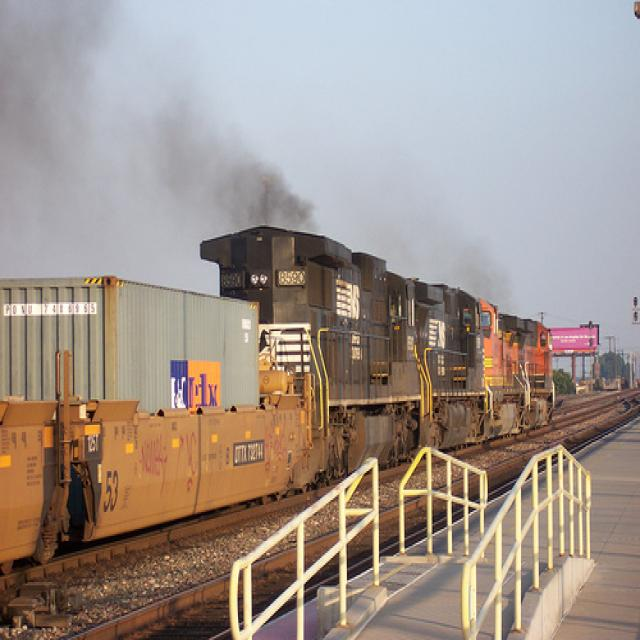container: (0, 270, 262, 410)
flatcar: (0, 395, 314, 554)
locomotive: (197, 220, 425, 460), (416, 275, 489, 456), (480, 290, 560, 436)
